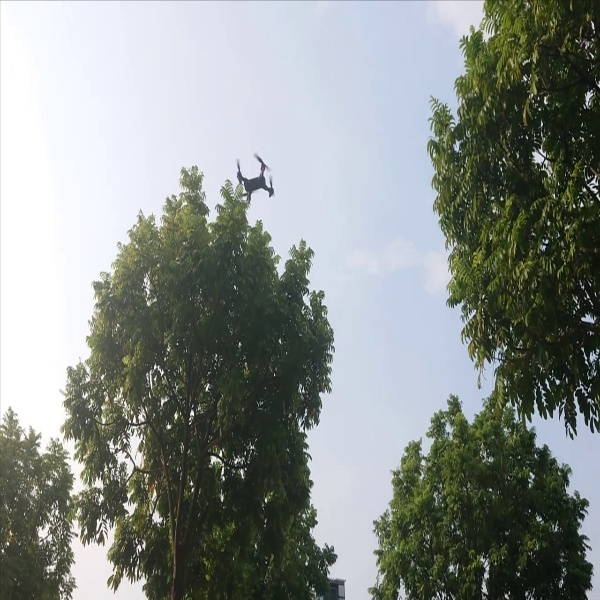drone: (233, 146, 278, 209)
